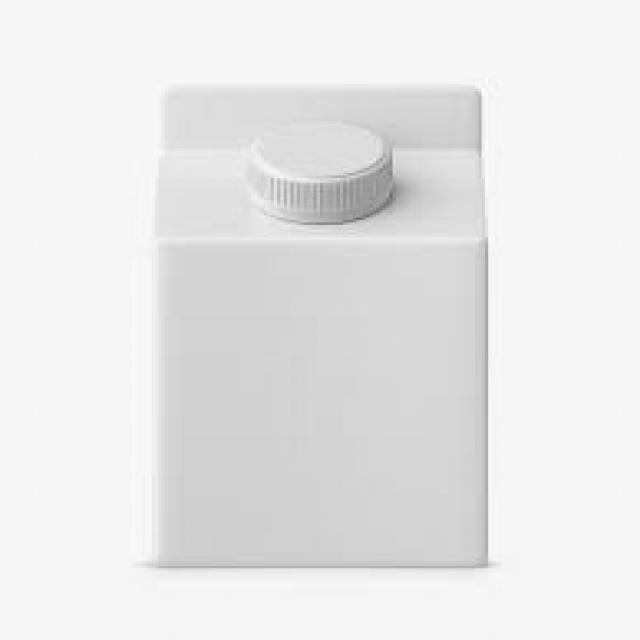non_white_jug: (128, 62, 504, 590)
